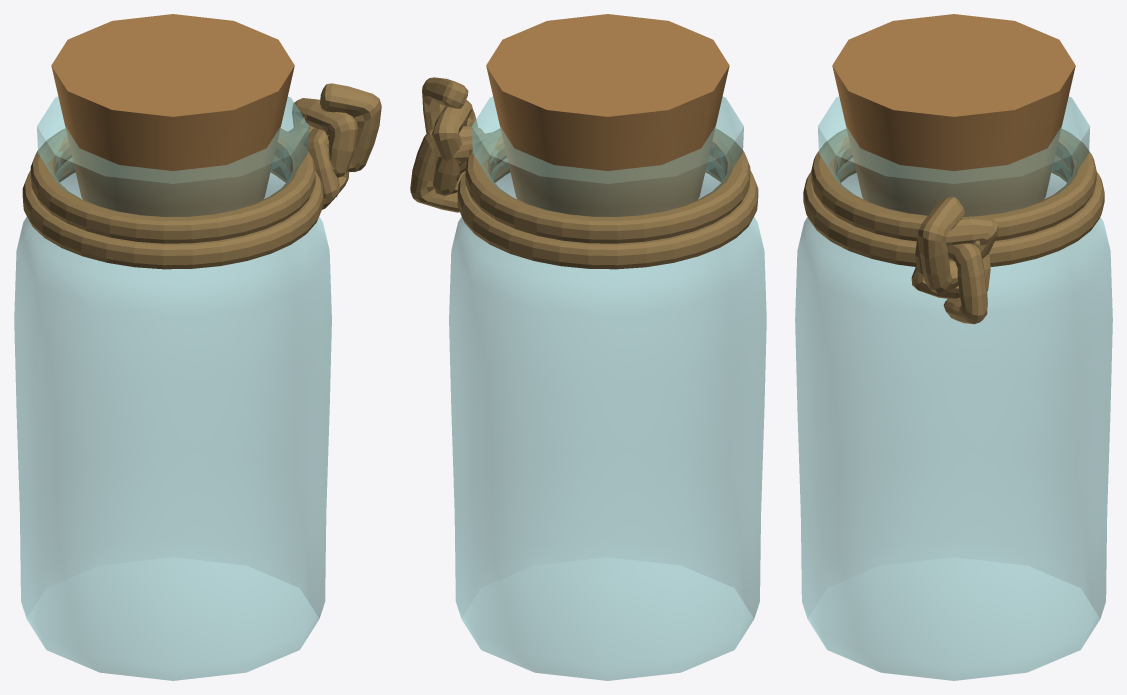
File: kofe.fbx
3 views of the same model, side by side, from view 1: azimuth 30°, elevation 25°; view 2: azimuth 150°, elevation 25°; view 3: azimuth 270°, elevation 25° (orthographic).
Visible parts, largest first — view 1: Cylinder; view 2: Cylinder; view 3: Cylinder.
Part boxes in pixels (left/top/right/bottom): Cylinder: left=14, top=14, right=381, bottom=680; Cylinder: left=410, top=14, right=766, bottom=680; Cylinder: left=795, top=14, right=1112, bottom=680.
Bounding box in the file's own units: 1.08 × 1.76 × 0.8956.
